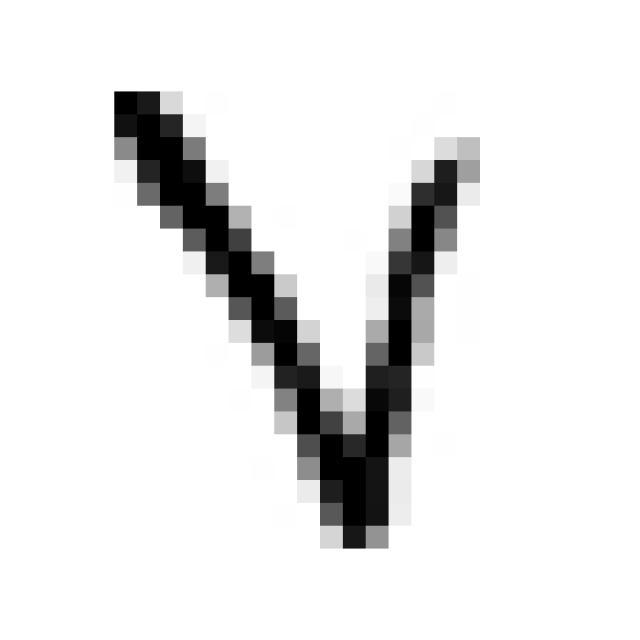7 -seven-: (91, 71, 488, 567)
